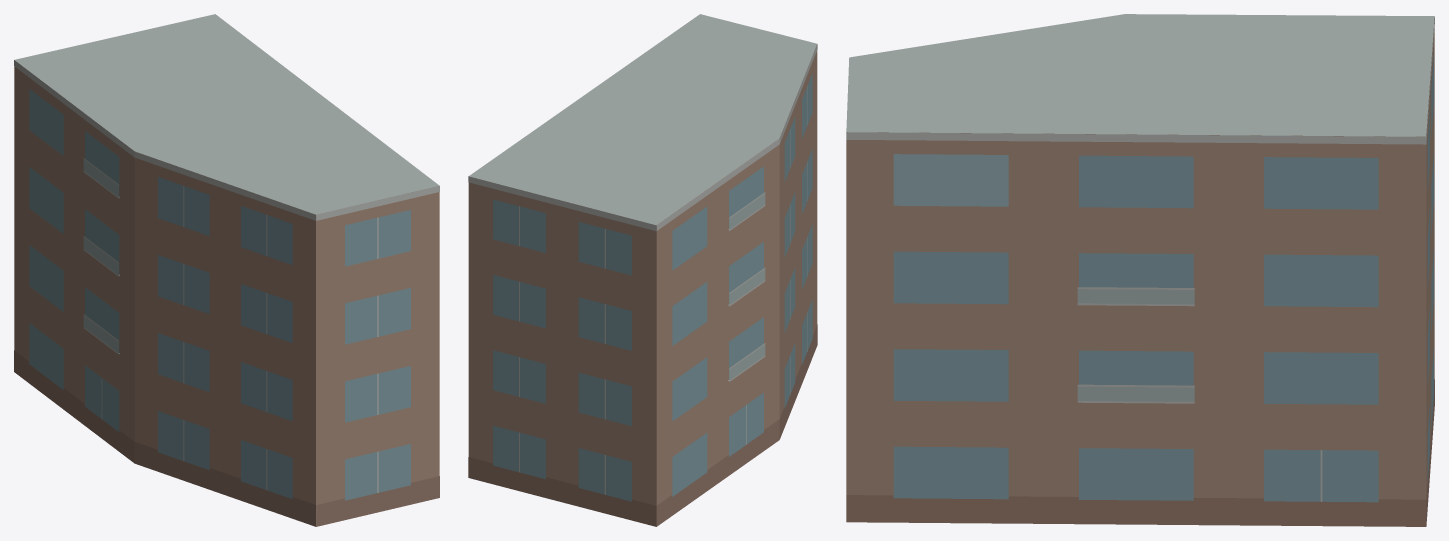
Rendered from survey-upis-32579886.glb.
3 renders of one model, left to right at view 1: azimuth 30°, elevation 25°; view 2: azimuth 150°, elevation 25°; view 3: azimuth 270°, elevation 25°, orthographic. The views are drawn at different scales.
Parts seen in each view (by area): view 1: survey-upis-32579886.tmp; view 2: survey-upis-32579886.tmp; view 3: survey-upis-32579886.tmp.
Part boxes in pixels (x1,y1,x2,y2): survey-upis-32579886.tmp: (14,14,439,526); survey-upis-32579886.tmp: (468,14,817,526); survey-upis-32579886.tmp: (846,14,1434,526).
Bounding box in the file's own units: 8.33 × 12.3 × 16.82.
